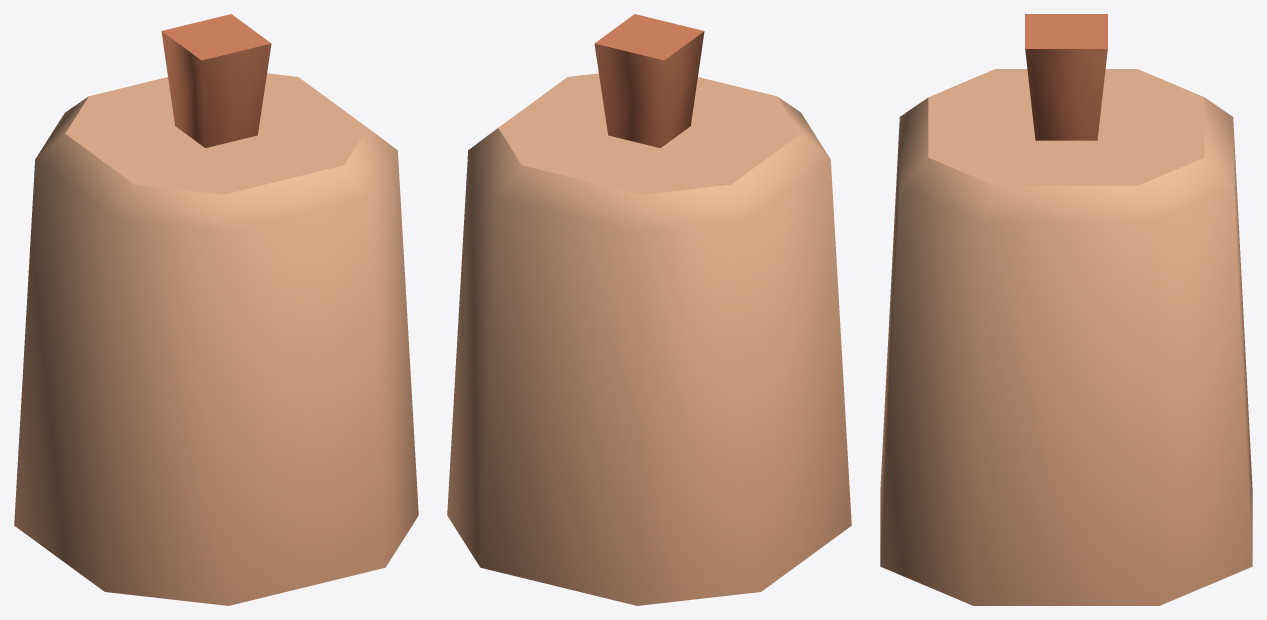
The model's file is candle.glb.
3 renders of one model, left to right at view 1: azimuth 30°, elevation 25°; view 2: azimuth 150°, elevation 25°; view 3: azimuth 270°, elevation 25°, orthographic. The views are drawn at different scales.
Parts seen in each view (by area): view 1: candle; view 2: candle; view 3: candle.
Boxes of the visible parts, x1,y1,x2,y2 form: candle: (14, 14, 418, 605); candle: (447, 14, 851, 605); candle: (880, 14, 1252, 605).
Size of the model in its own units: 0.1361 by 0.2002 by 0.1361.
1 material, 1 textured.
